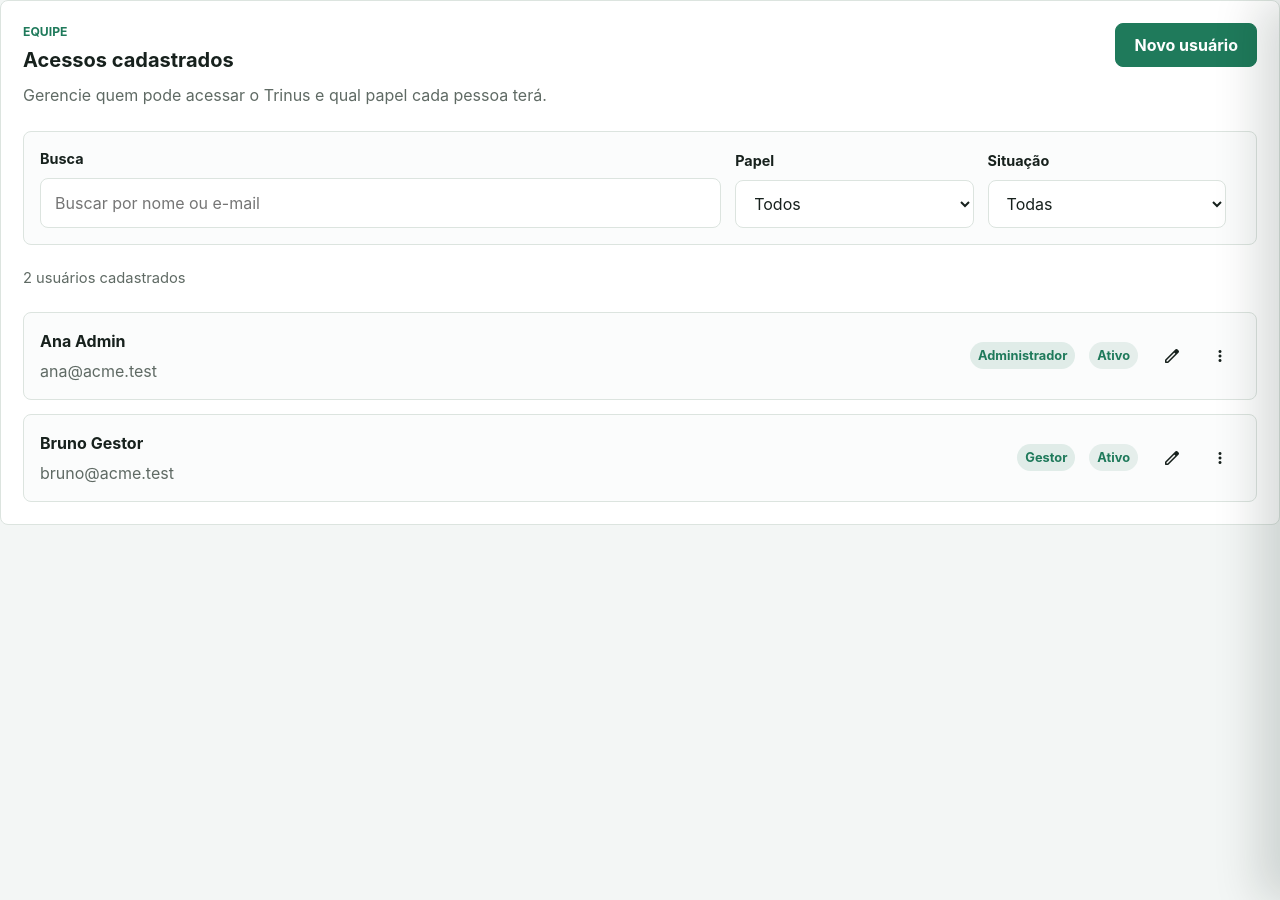
Test: UsersPageComponent › filtra usuarios por papel e situacao
Select "Gestor" in the dropdown named "role": {"x": 854, "y": 204} 735,180 -> 974,228
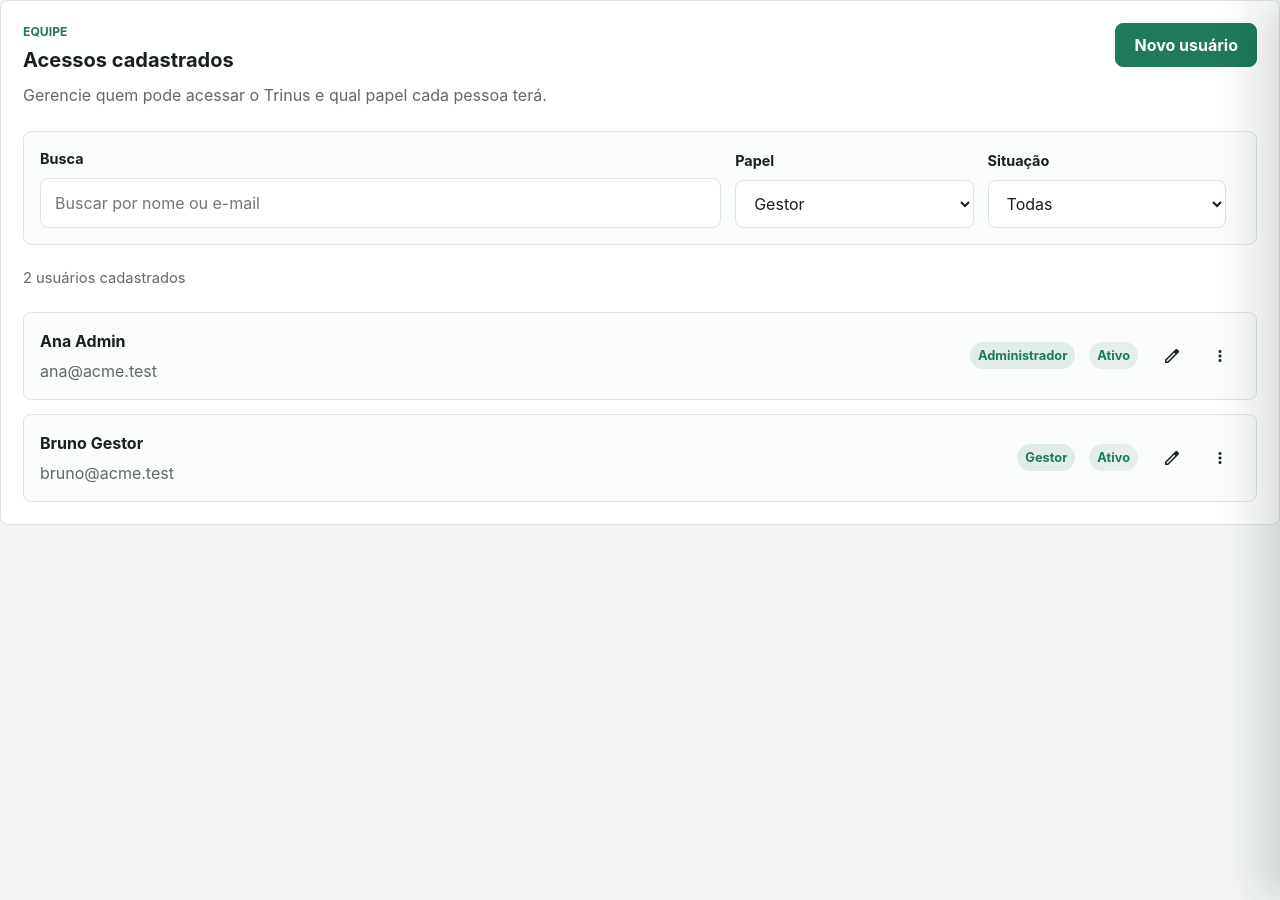
Select "Inativos" in the dropdown named "status": {"x": 1107, "y": 204} 988,180 -> 1226,228
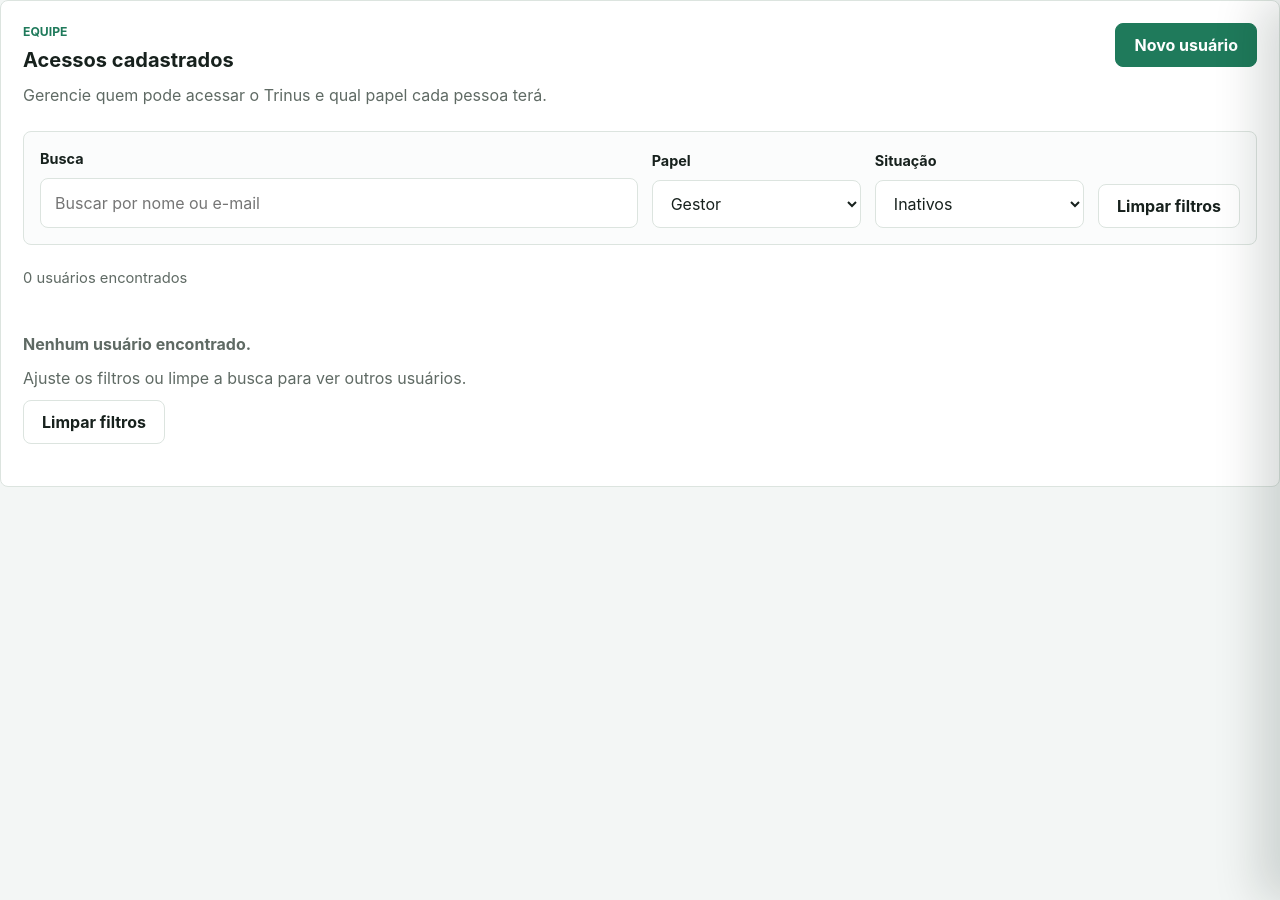
Expected: the text "Nenhum usuário encontrado." is shown, 23,332 -> 251,356
Expected: the text "Limpar filtros" is shown, 1098,184 -> 1240,228
